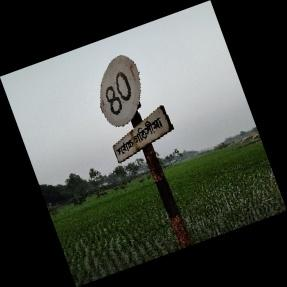Speed-limit: (100, 55, 175, 163)
